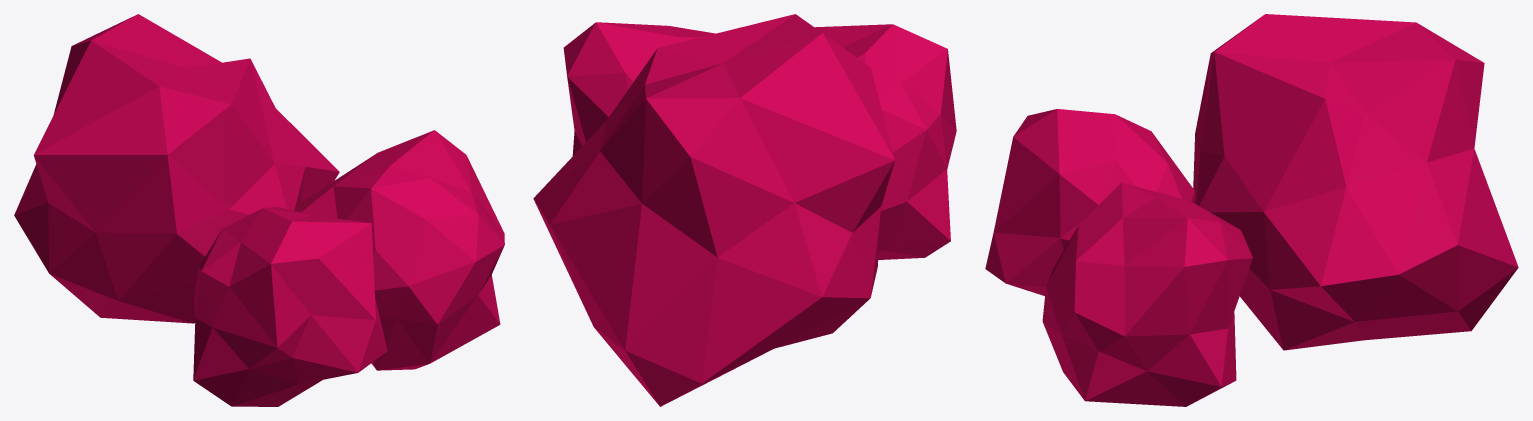
The model's file is RockPile.fbx.
3 views of the same model, side by side, from view 1: azimuth 30°, elevation 25°; view 2: azimuth 150°, elevation 25°; view 3: azimuth 270°, elevation 25° (orthographic). The views are drawn at different scales.
Visible parts, largest first — view 1: RockPile; view 2: RockPile; view 3: RockPile.
Boxes of the visible parts, x1,y1,x2,y2 form: RockPile: (14,14,504,406); RockPile: (533,14,956,406); RockPile: (985,14,1518,406).
Size of the model in its own units: 468 by 328 by 543.
